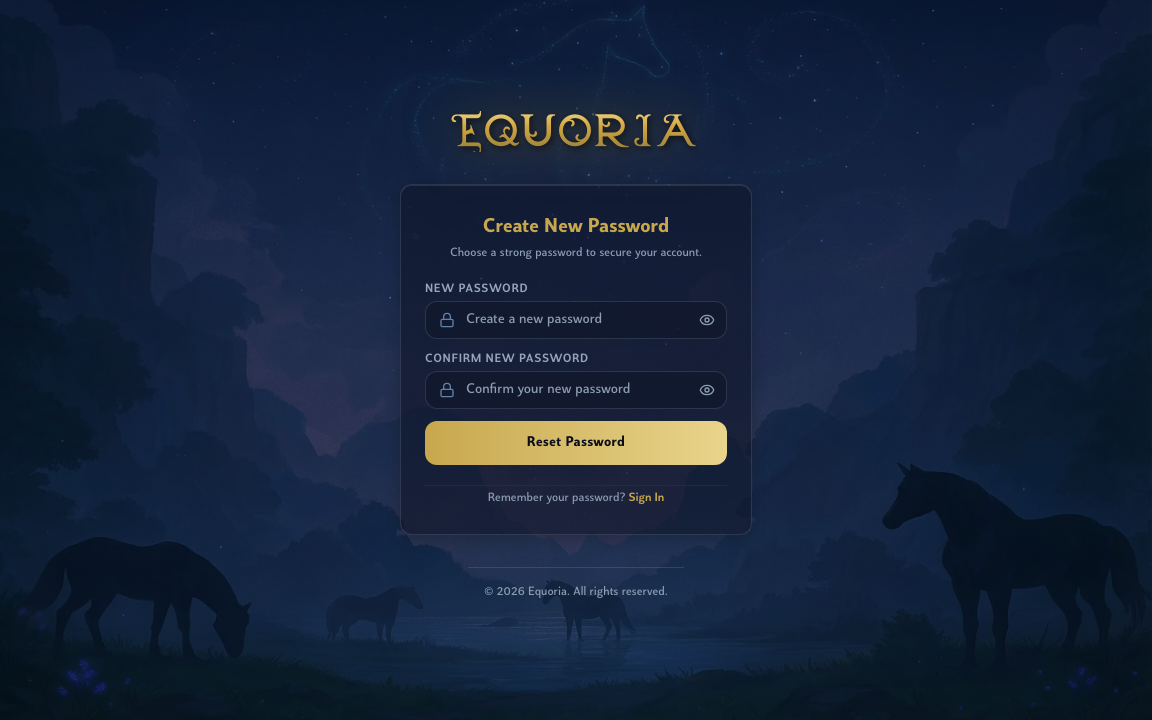
Test: ResetPasswordPage › Password Strength Indicator › shows strength indicator when password entered
Type "weak" into the password field with placeholder "Create a new password" at (576, 320), box [425,301,727,339]
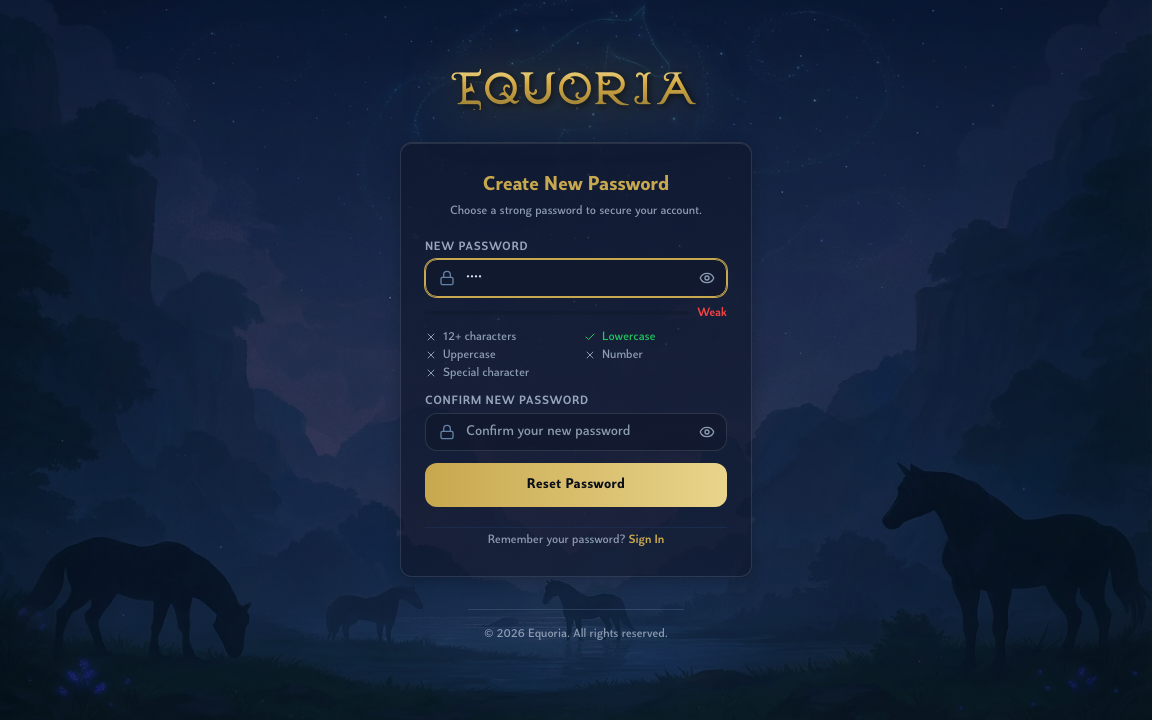
Check: the text "weak" is shown, box [697,305,727,321]
